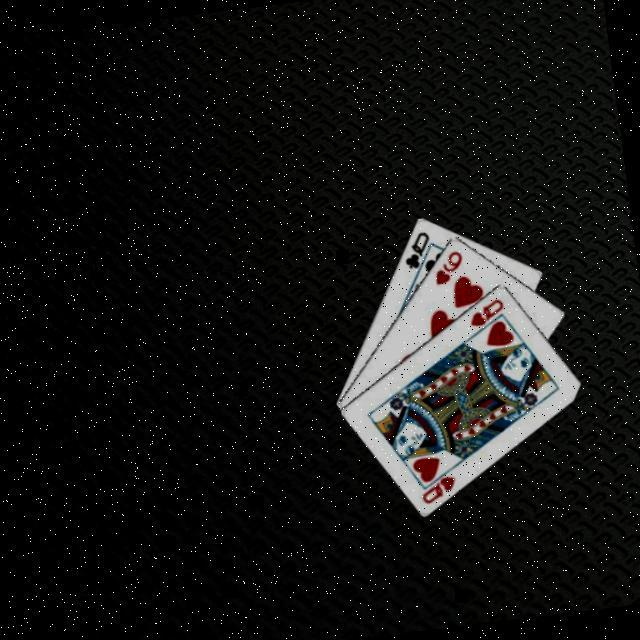9H: (429, 244, 468, 285)
QC: (398, 224, 436, 270)
QH: (416, 460, 461, 504), (465, 292, 510, 327)
